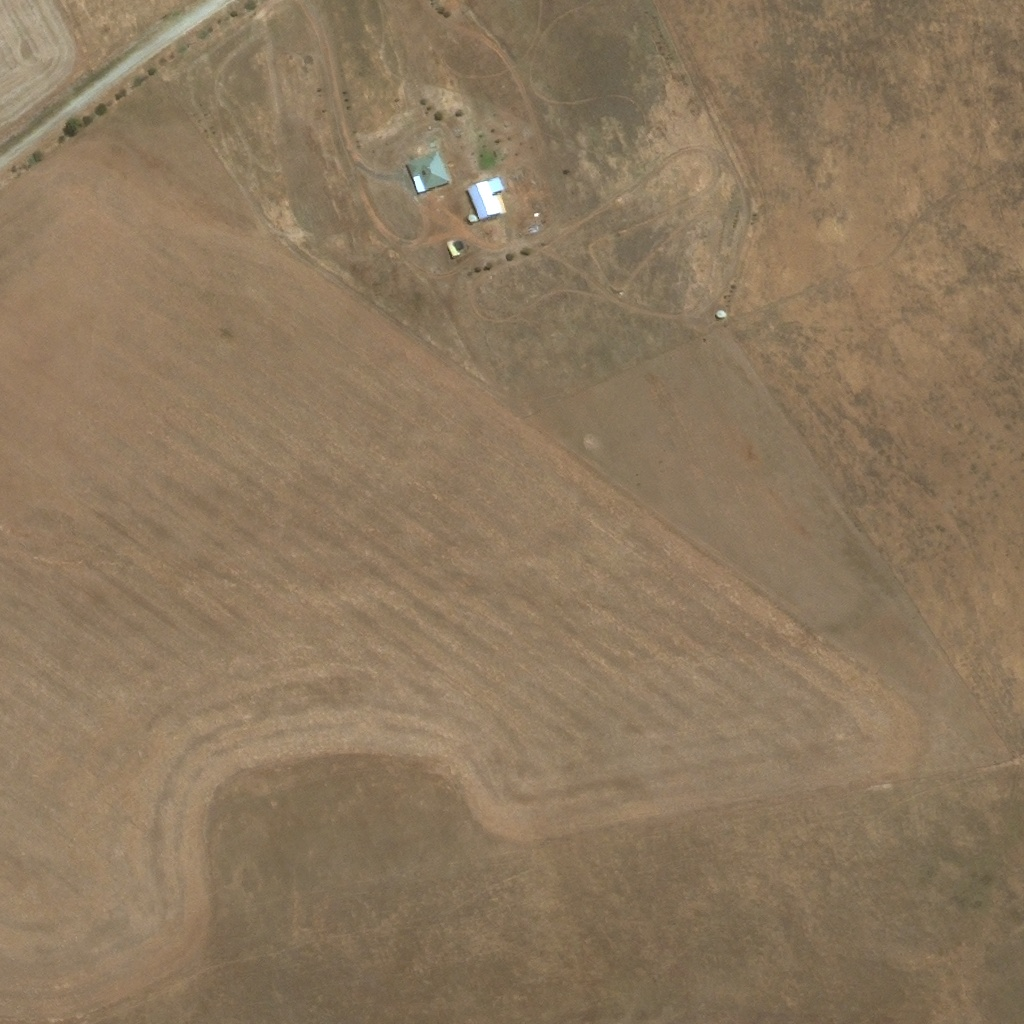0 no-damage: (407, 149, 449, 189), (467, 176, 503, 218), (446, 240, 463, 259), (413, 174, 426, 192), (715, 310, 725, 320), (468, 214, 477, 221)
